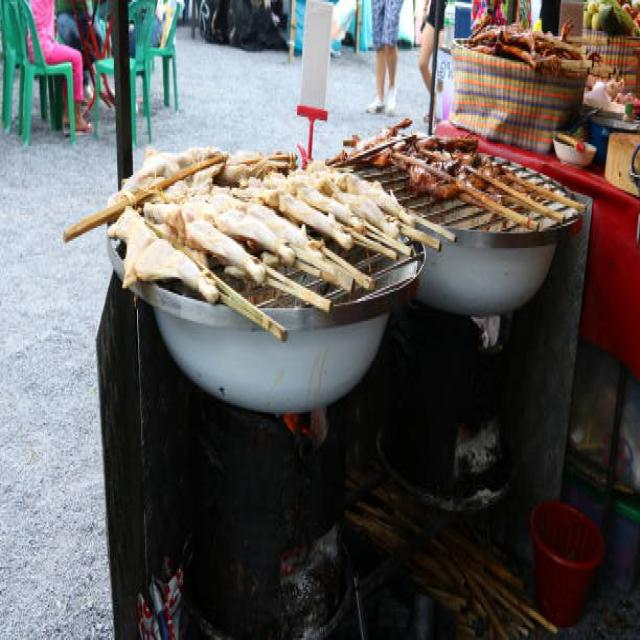Emperan: (86, 107, 611, 640)
